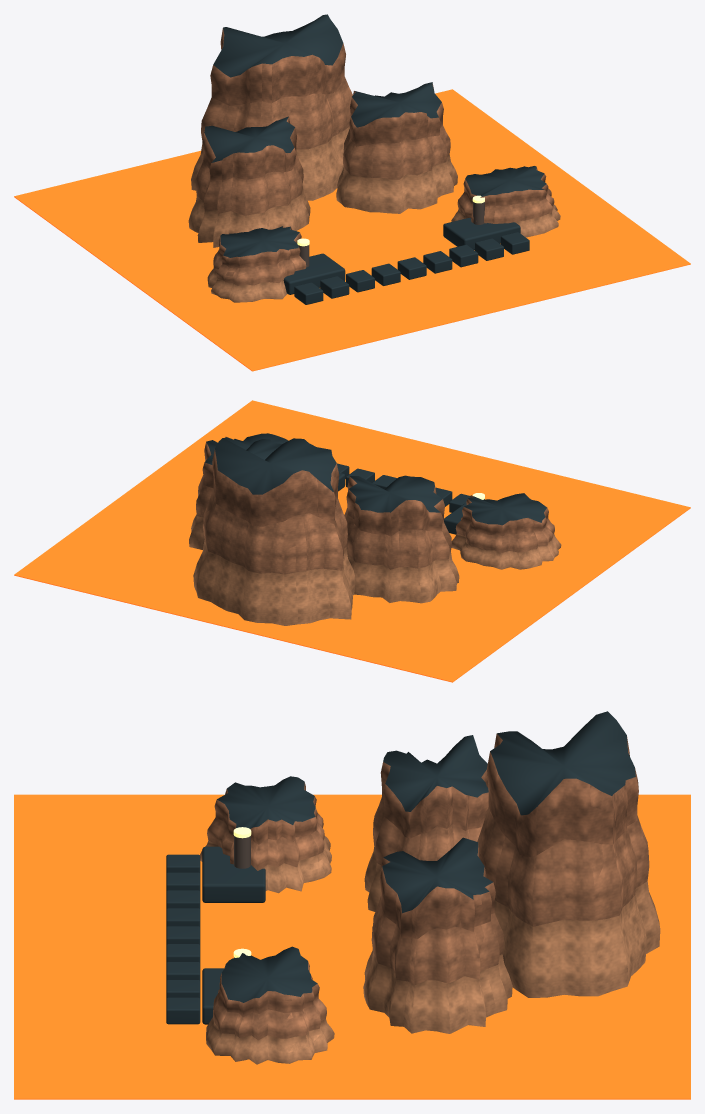
File: lava-steps-v1.glb
3 views of the same model, one above another, from view 1: azimuth 30°, elevation 25°; view 2: azimuth 150°, elevation 25°; view 3: azimuth 270°, elevation 25° (orthographic). The views are drawn at different scales.
Visible parts, largest first — view 1: Molten lava, Recesses.002, desert strata 1, desert strata 0, desert strata 2; view 2: Molten lava, desert strata 0, desert strata 1, Recesses.002, desert strata 2; view 3: Molten lava, Recesses.002, desert strata 1, desert strata 0, desert strata 2.
Part boxes in pixels (x1,y1,x2,y2): Molten lava: [14, 89, 690, 371]; Recesses.002: [204, 14, 546, 304]; desert strata 1: [195, 77, 554, 285]; desert strata 0: [188, 126, 560, 302]; desert strata 2: [202, 28, 548, 267]; Molten lava: [14, 400, 690, 682]; desert strata 0: [189, 514, 561, 625]; desert strata 1: [196, 475, 554, 574]; Recesses.002: [205, 433, 547, 534]; desert strata 2: [202, 437, 548, 536]; Molten lava: [14, 794, 690, 1099]; Recesses.002: [166, 711, 635, 1024]; desert strata 1: [207, 797, 649, 1040]; desert strata 0: [199, 836, 660, 1064]; desert strata 2: [214, 734, 638, 1017].
Bounding box in the file's own units: 170 × 54.54 × 160.
7 materials, 3 textured.
